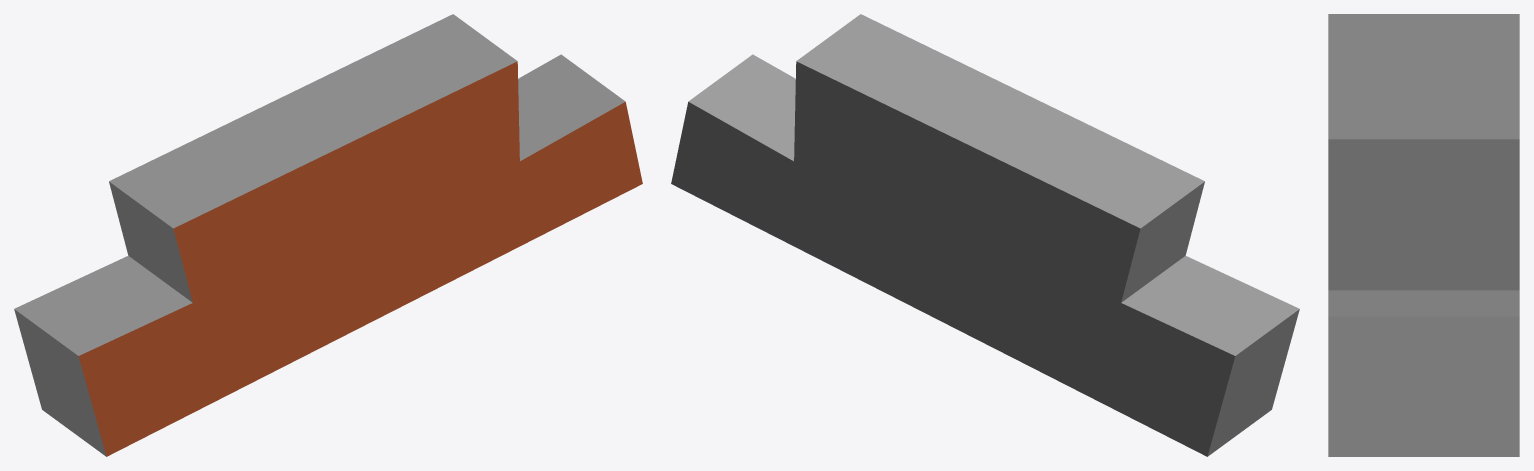
File: construction_0904_assumed_A_Casa_h6m.obj
The picture shows the model from 3 angles, left to right: view 1: azimuth 30°, elevation 25°; view 2: azimuth 150°, elevation 25°; view 3: azimuth 270°, elevation 25°; orthographic projection. The views are drawn at different scales.
Parts seen in each view (by area): view 1: construction_0904_assumed_A_Casa; view 2: construction_0904_assumed_A_Casa; view 3: construction_0904_assumed_A_Casa.
Boxes of the visible parts, x1,y1,x2,y2 form: construction_0904_assumed_A_Casa: (14, 14, 642, 456); construction_0904_assumed_A_Casa: (671, 14, 1299, 456); construction_0904_assumed_A_Casa: (1328, 14, 1519, 456).
Size of the model in its own units: 30.29 by 15.15 by 6.
